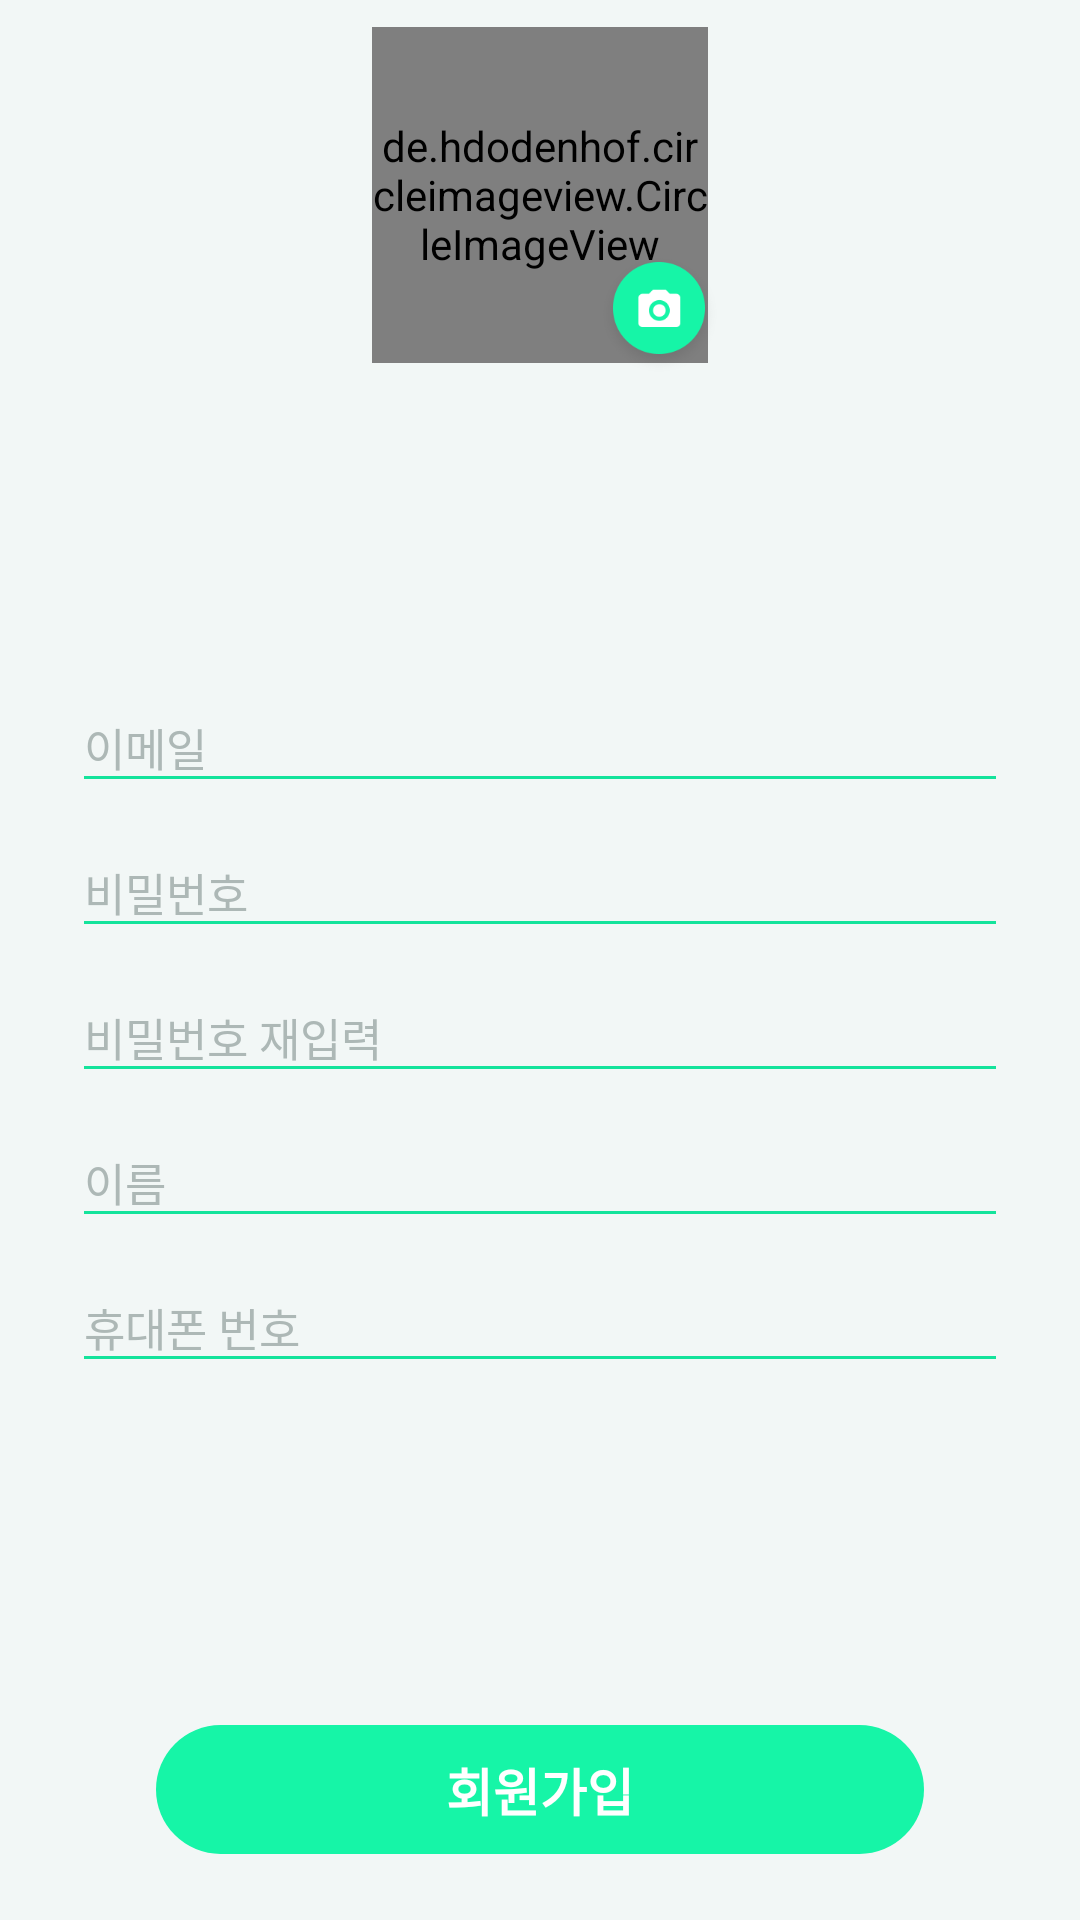

Icons on this 1080×1920 Android screen, each with the point to tap as (x=x, y=y):
add photo: (x=659, y=314)
